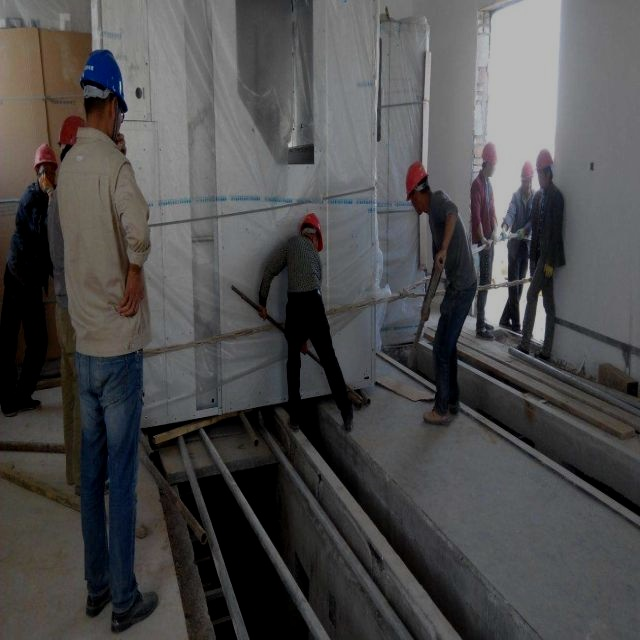Con_Casco: (79, 47, 130, 138)
Sin_Chaleco: (58, 140, 150, 352)
